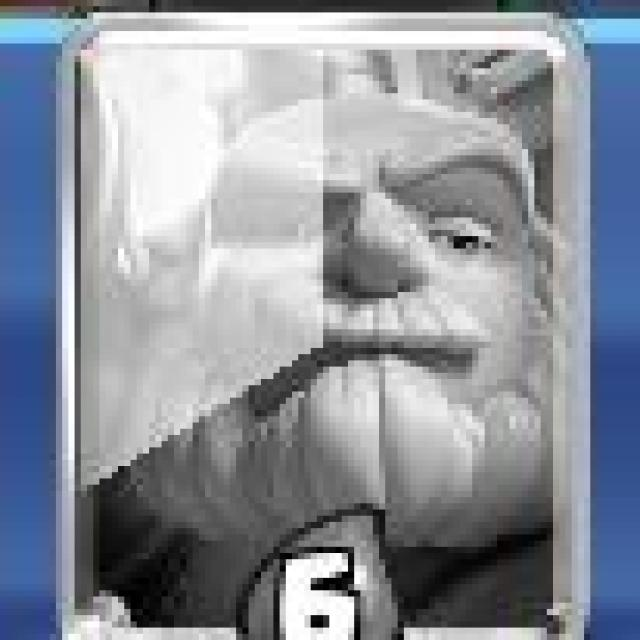Royal_Giant: (67, 28, 586, 640)
